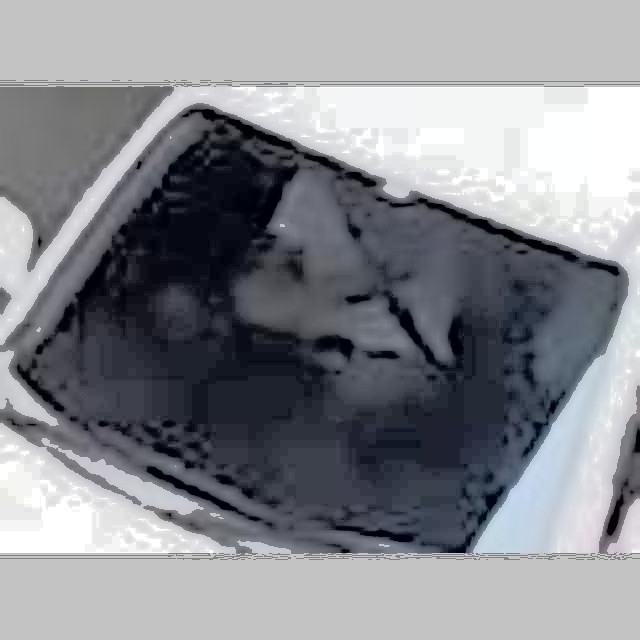pakai: (257, 166, 456, 344)
